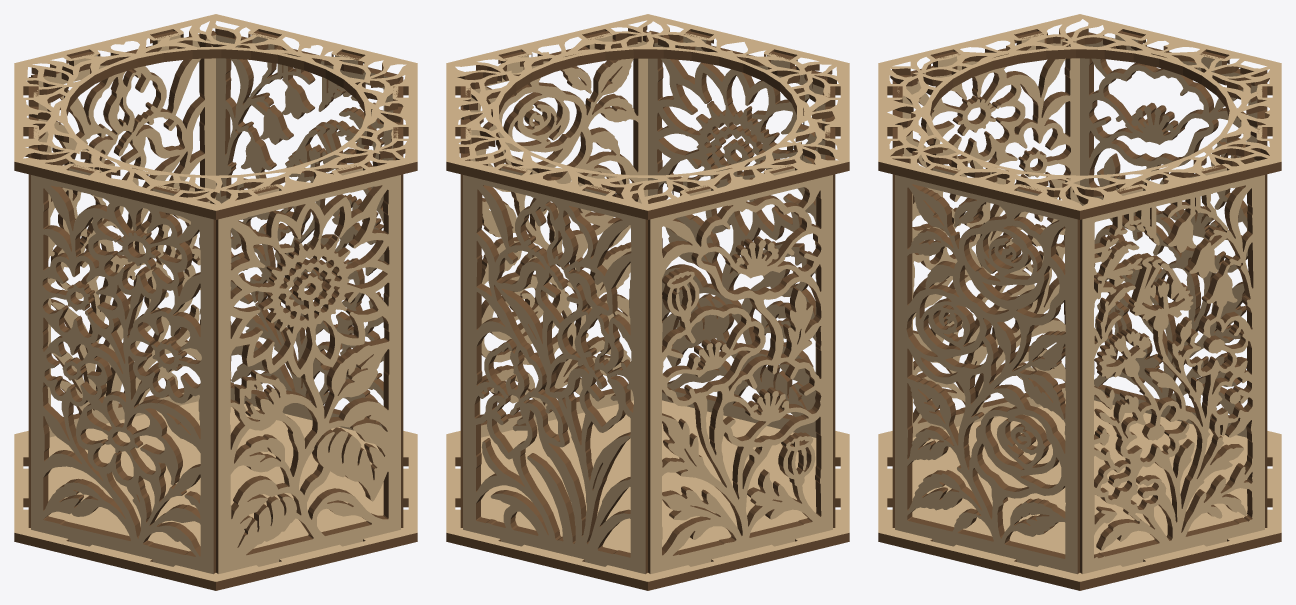
File: lumi-2-kvetinove.glb
The picture shows the model from 3 angles, left to right: view 1: azimuth 30°, elevation 25°; view 2: azimuth 150°, elevation 25°; view 3: azimuth 270°, elevation 25°; orthographic projection.
Visible parts, largest first — view 1: stena-02, stena-03, vrsek, dno, stena-05, stena-06, stena-01, stena-04; view 2: stena-05, stena-04, vrsek, stena-02, dno, stena-01, stena-03, stena-06; view 3: stena-01, stena-06, vrsek, dno, stena-03, stena-04, stena-02, stena-05.
Part boxes in pixels (x1,y1,x2,y2): stena-02: (216, 165, 400, 574); stena-03: (31, 164, 215, 574); vrsek: (14, 14, 417, 219); dno: (14, 401, 417, 590); stena-05: (31, 30, 216, 437); stena-06: (216, 31, 396, 430); stena-01: (393, 77, 403, 527); stena-04: (28, 77, 38, 527); stena-05: (463, 165, 647, 574); stena-04: (648, 165, 832, 574); vrsek: (446, 14, 849, 219); stena-02: (648, 30, 825, 437); dno: (446, 400, 849, 590); stena-01: (470, 31, 647, 437); stena-03: (825, 78, 835, 527); stena-06: (460, 86, 470, 527); stena-01: (895, 165, 1079, 574); stena-06: (1080, 164, 1264, 574); vrsek: (878, 14, 1281, 219); dno: (878, 400, 1281, 590); stena-03: (899, 31, 1079, 437); stena-04: (1080, 31, 1257, 437); stena-02: (892, 80, 902, 527); stena-05: (1257, 82, 1267, 527).
Size of the model in its own units: 0.14 by 0.126 by 0.1212.
